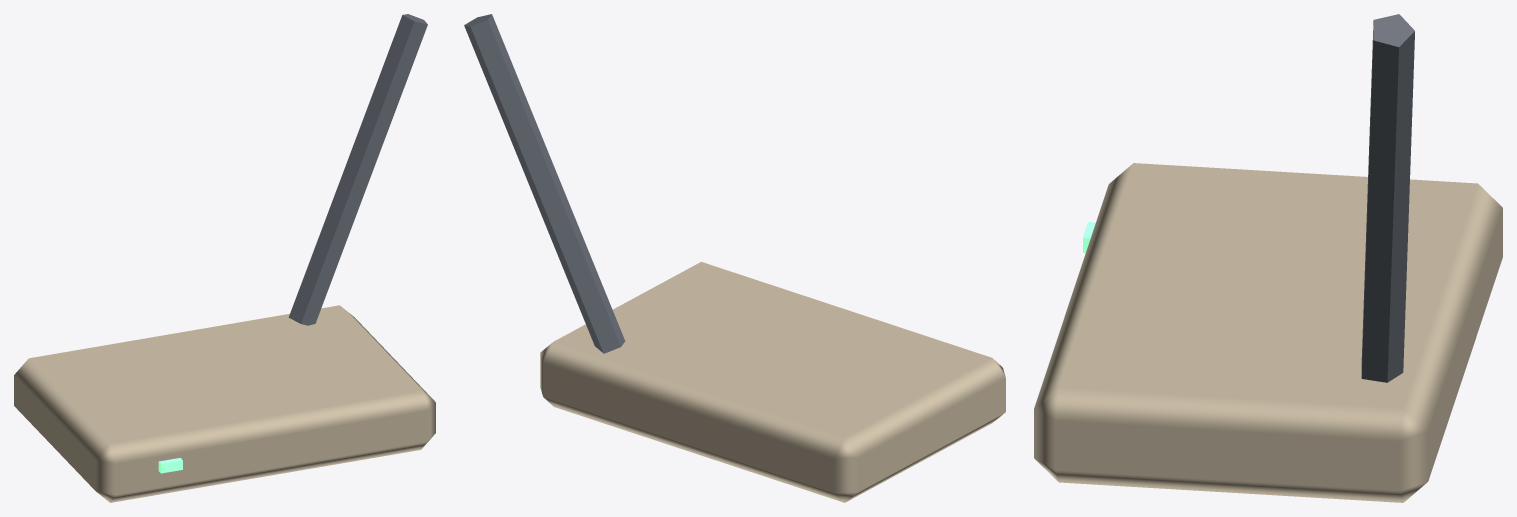
Rendered from station_transport_ausstattung_1_0.glb.
The picture shows the model from 3 angles, left to right: view 1: azimuth 30°, elevation 25°; view 2: azimuth 150°, elevation 25°; view 3: azimuth 270°, elevation 25°; orthographic projection. The views are drawn at different scales.
Visible parts, largest first — view 1: station_transport_ausstattung_1_0; view 2: station_transport_ausstattung_1_0; view 3: station_transport_ausstattung_1_0.
Boxes of the visible parts, x1,y1,x2,y2 form: station_transport_ausstattung_1_0: (14, 14, 435, 502); station_transport_ausstattung_1_0: (464, 14, 1005, 502); station_transport_ausstattung_1_0: (1034, 14, 1502, 502).
Bounding box in the file's own units: 0.3616 × 0.2826 × 0.2238.
